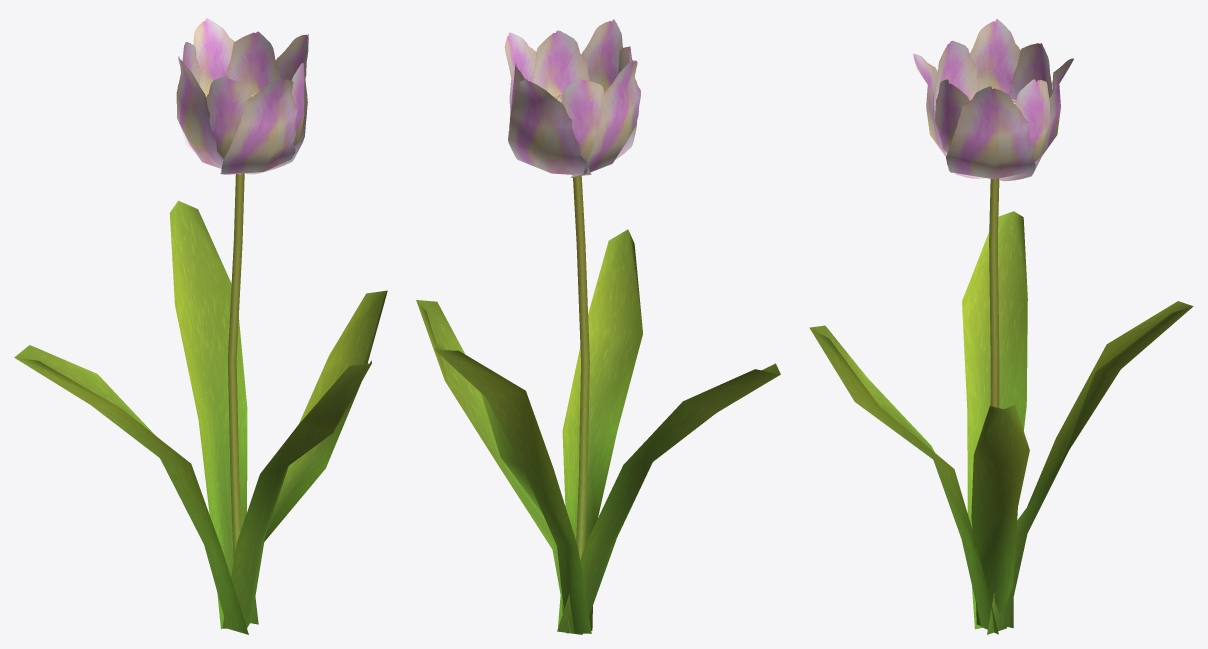
The model's file is m_flower25.fbx.
3 renders of one model, left to right at view 1: azimuth 30°, elevation 25°; view 2: azimuth 150°, elevation 25°; view 3: azimuth 270°, elevation 25°, orthographic.
Parts seen in each view (by area): view 1: mesh_flower25; view 2: mesh_flower25; view 3: mesh_flower25.
Part boxes in pixels (x1,y1,x2,y2): mesh_flower25: (14, 18, 387, 634); mesh_flower25: (416, 19, 780, 634); mesh_flower25: (809, 19, 1193, 634).
Size of the model in its own units: 0.2755 by 0.4208 by 0.2502.
1 material, 1 textured.
